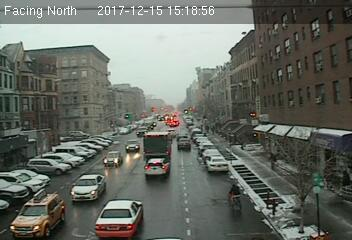bicycle: (227, 183, 245, 213)
car: (9, 189, 63, 237), (95, 200, 145, 238), (70, 174, 106, 200), (144, 158, 169, 178), (205, 155, 229, 174), (102, 150, 121, 166), (177, 137, 191, 151), (125, 140, 140, 152)
truck: (143, 131, 171, 156)
